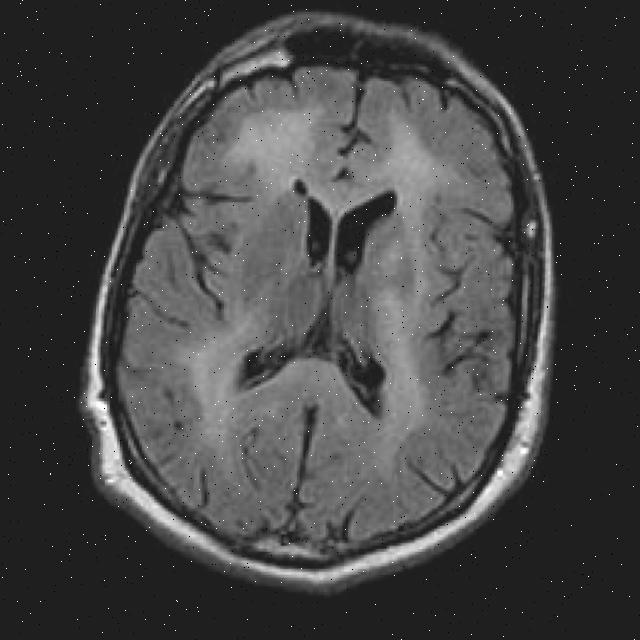NoTumor: (61, 0, 574, 613)
